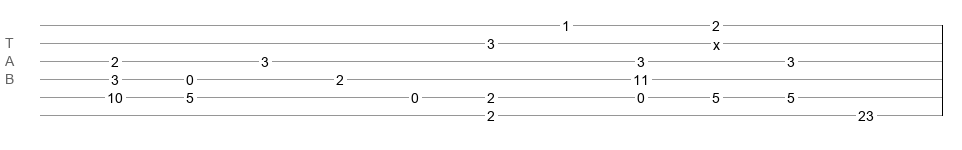0: (186, 72, 194, 82), (411, 90, 419, 100), (637, 90, 645, 100)
1: (562, 18, 570, 28)
10: (107, 90, 123, 100)
11: (633, 72, 649, 82)
2: (111, 54, 119, 64), (336, 72, 344, 82), (487, 108, 495, 118), (487, 90, 495, 100), (712, 18, 720, 28)
23: (858, 108, 874, 118)
3: (111, 72, 119, 82), (261, 54, 269, 64), (487, 36, 495, 46), (637, 54, 645, 64), (787, 54, 795, 64)
5: (186, 90, 194, 100), (712, 90, 720, 100), (787, 90, 795, 100)
x: (713, 37, 720, 45)
